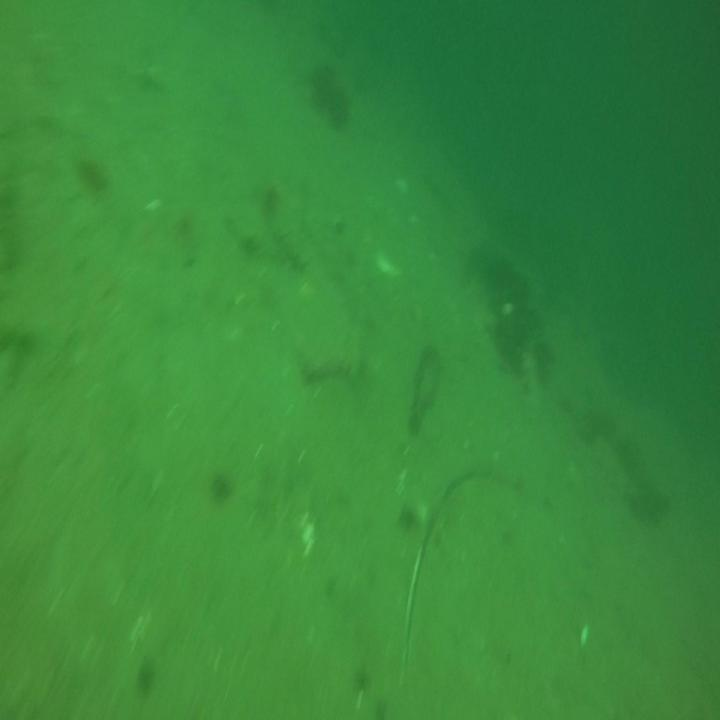holothurian: (262, 219, 309, 280)
